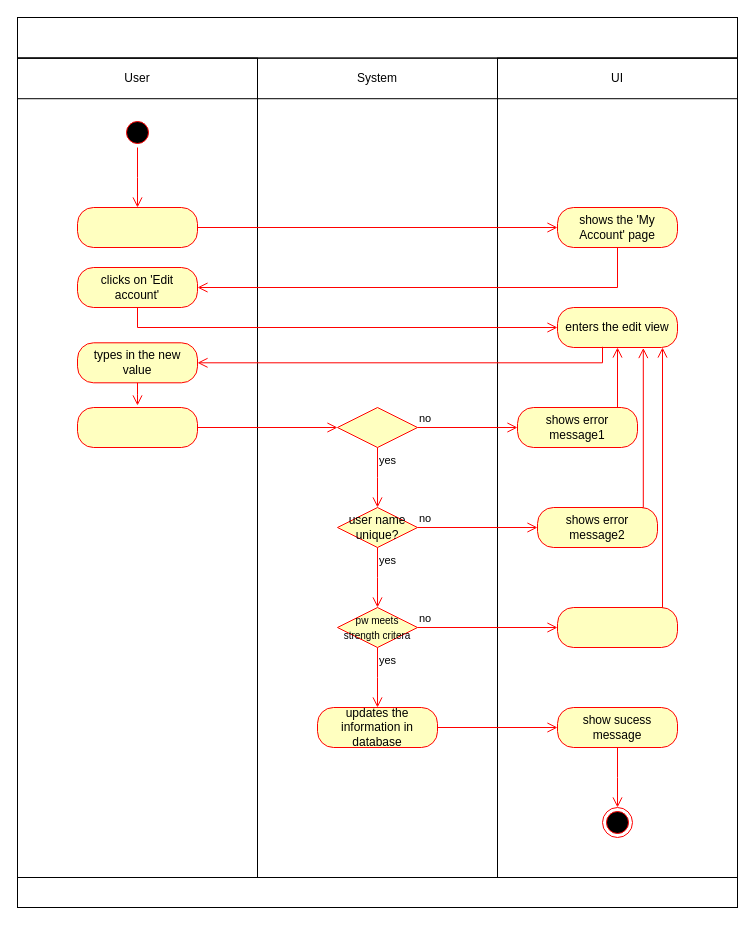
This 755x925 diagram has some shape labels left out. The shapes that lost their labels are listed below. From the top down, each one's box as (x1, y1, x2, y2) in pixels, then its label:
(16, 16, 738, 58): Edit Account
(76, 206, 198, 248): clicks on 'My Account' button
(76, 406, 198, 448): clicks 'submit' button
(336, 406, 418, 448): valid data?
(556, 606, 678, 648): shows error message3
